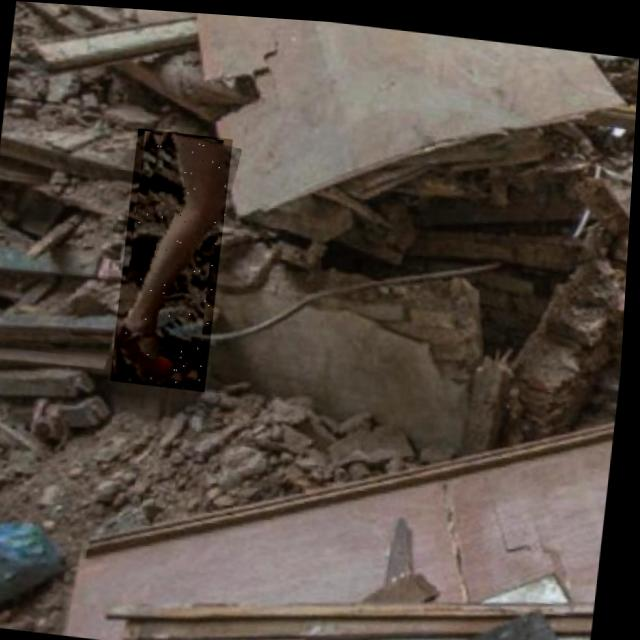Person in Rubble: (115, 125, 236, 390)
